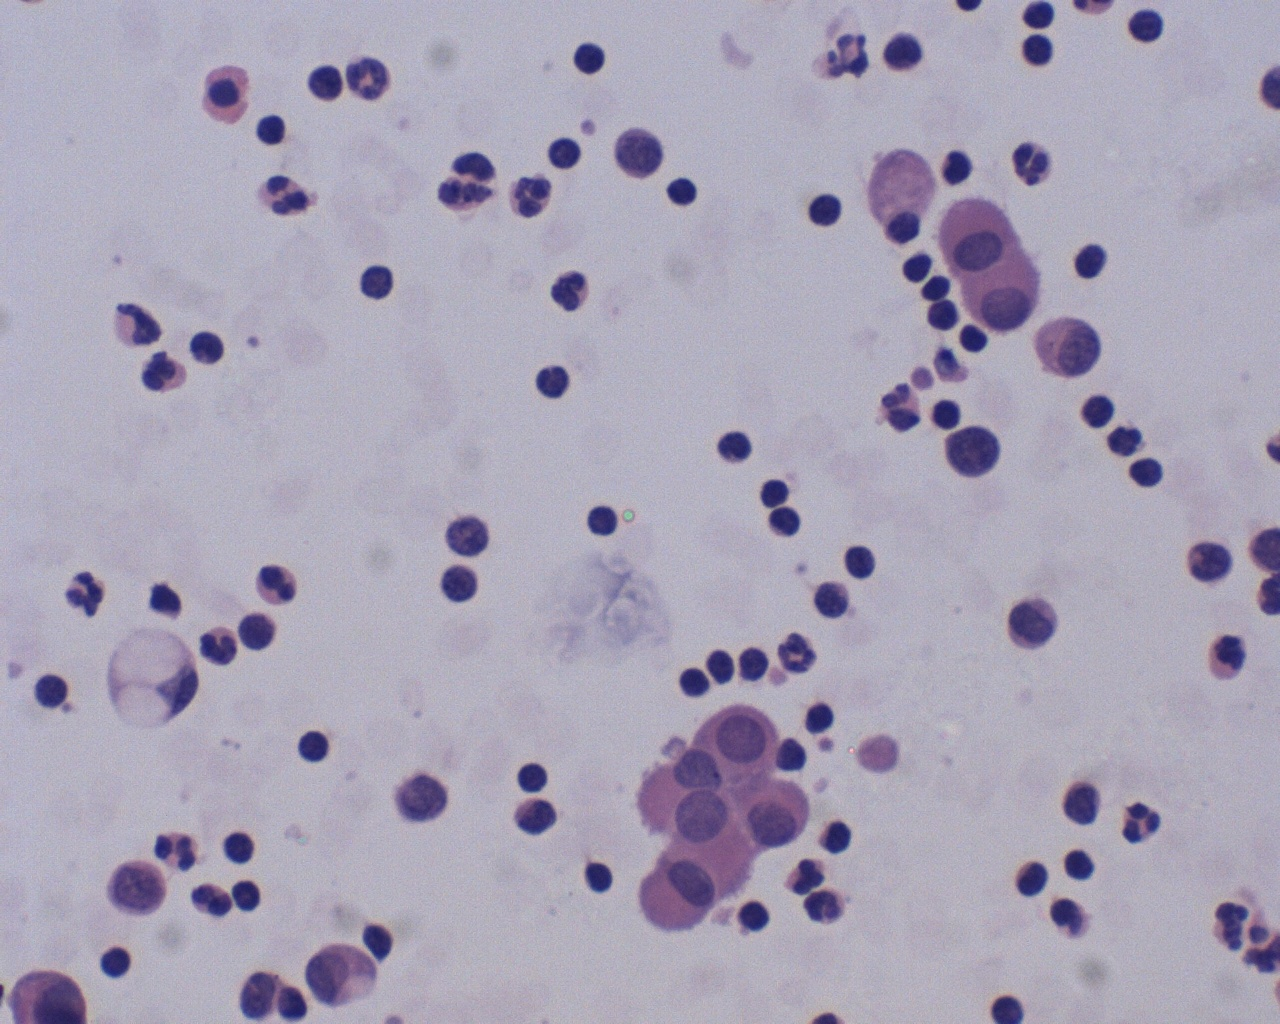ab: (735, 773, 815, 851), (1033, 310, 1110, 386), (937, 421, 1011, 488), (104, 854, 174, 920)
histo: (108, 625, 200, 734)
lymph: (1125, 451, 1173, 498), (289, 727, 338, 772), (575, 853, 619, 902), (30, 664, 71, 716), (842, 538, 885, 584), (807, 184, 847, 232), (1120, 6, 1167, 47), (360, 256, 396, 309), (673, 659, 715, 703), (577, 499, 623, 539), (1016, 855, 1053, 903), (661, 174, 705, 215), (513, 758, 559, 796), (569, 37, 609, 80), (1018, 31, 1056, 70)
meso: (631, 851, 723, 950), (937, 195, 1021, 279), (191, 64, 261, 129)
neutro: (253, 160, 321, 228), (56, 561, 113, 627), (1002, 132, 1061, 188), (781, 853, 843, 902), (251, 559, 306, 614), (344, 50, 396, 109), (546, 263, 603, 316), (507, 170, 560, 224), (191, 620, 240, 669), (1119, 798, 1169, 845), (776, 628, 821, 676)
